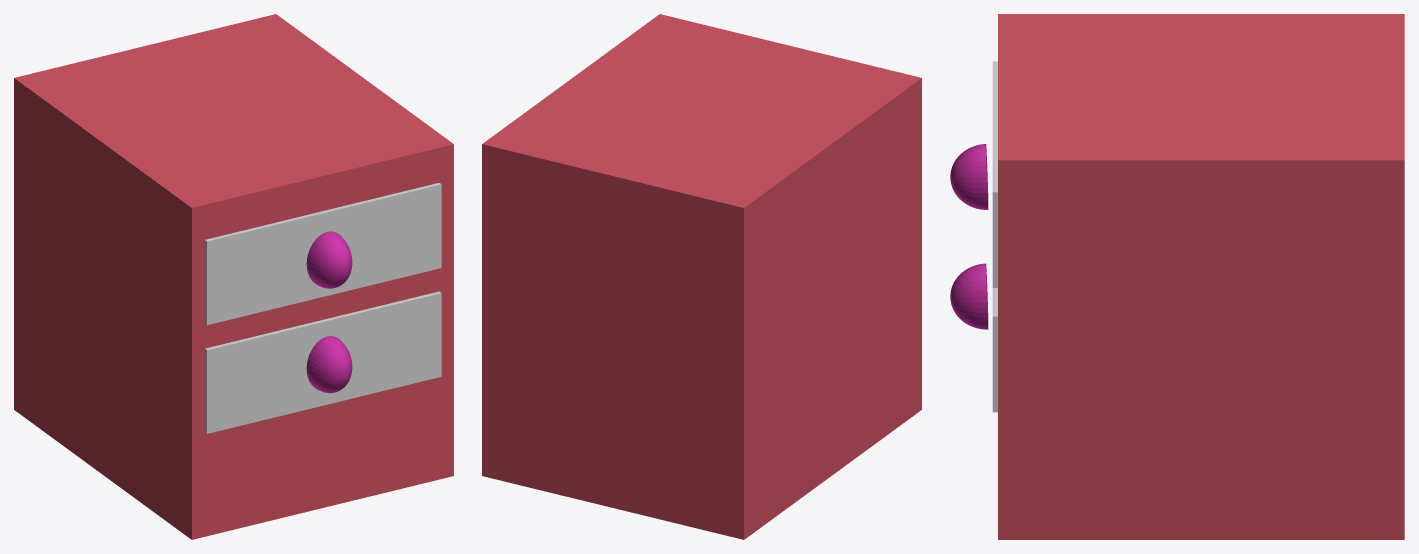
File: Night Stand.glb
The picture shows the model from 3 angles, left to right: view 1: azimuth 30°, elevation 25°; view 2: azimuth 150°, elevation 25°; view 3: azimuth 270°, elevation 25°; orthographic projection. The views are drawn at different scales.
Parts seen in each view (by area): view 1: Mesh_Mesh_head_geo.001_lambert2SG.001; view 2: Mesh_Mesh_head_geo.001_lambert2SG.001; view 3: Mesh_Mesh_head_geo.001_lambert2SG.001.
Part boxes in pixels (left/top/right/bottom): Mesh_Mesh_head_geo.001_lambert2SG.001: left=14, top=14, right=453, bottom=539; Mesh_Mesh_head_geo.001_lambert2SG.001: left=482, top=14, right=921, bottom=539; Mesh_Mesh_head_geo.001_lambert2SG.001: left=950, top=14, right=1404, bottom=539.
Size of the model in its own units: 65.58 by 79.37 by 86.07.
